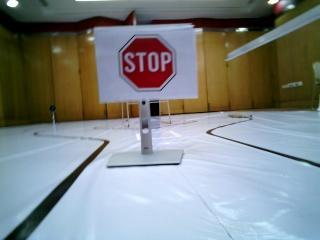stop: (96, 27, 196, 103)
